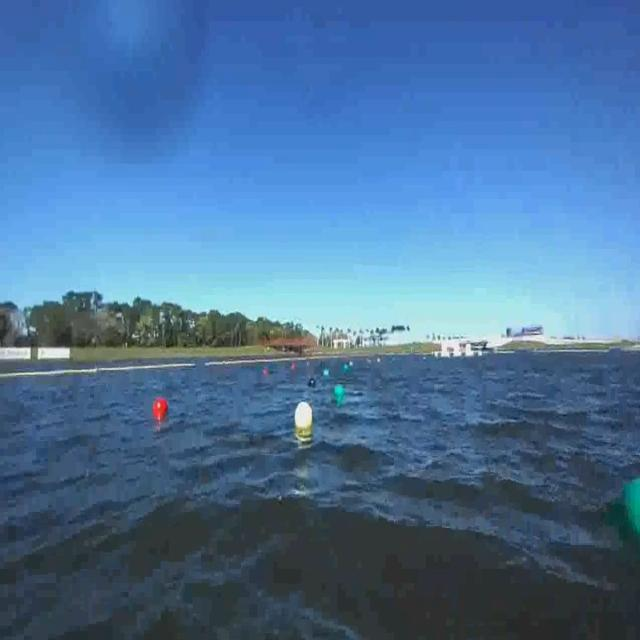black-buoy: (309, 378, 318, 389)
green-buoy: (336, 384, 346, 399), (326, 367, 332, 377)
red-buoy: (156, 397, 169, 415)
yellow-buoy: (296, 403, 313, 431)
